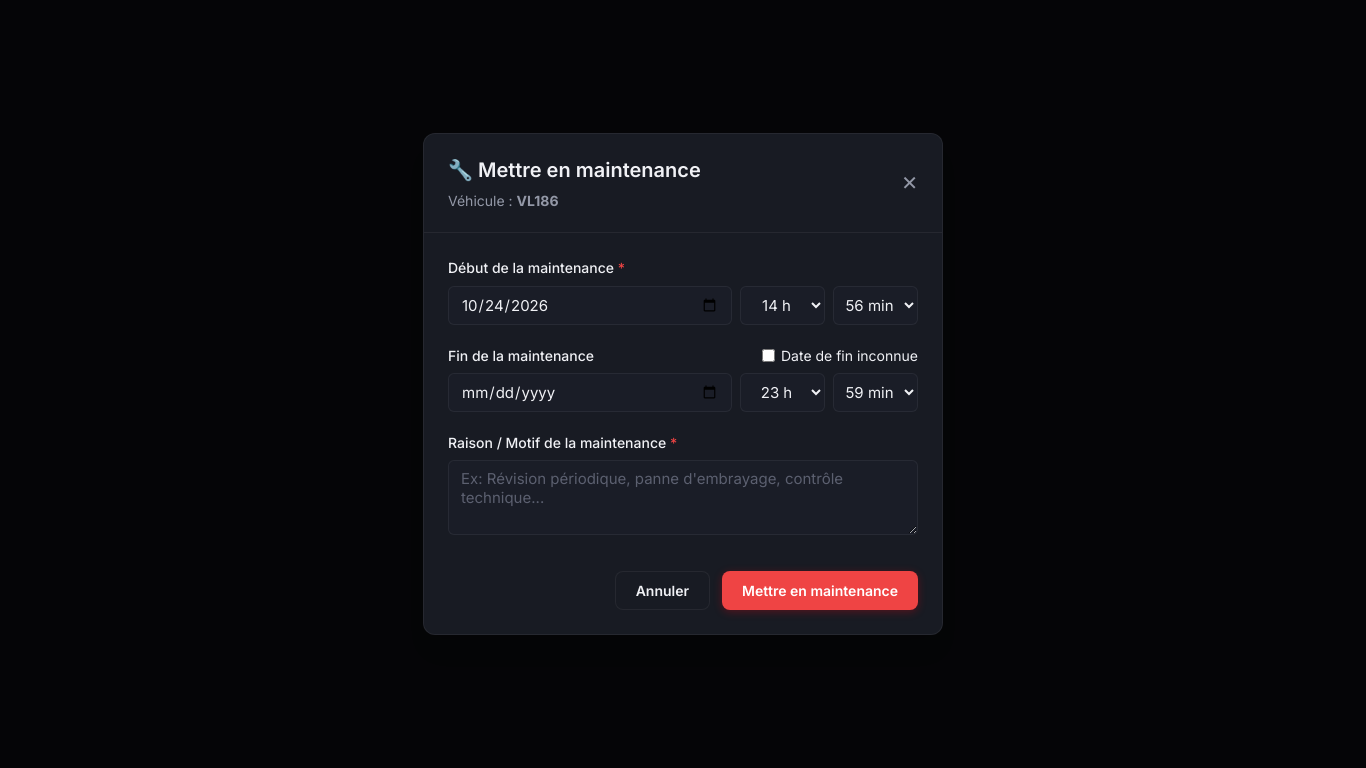
Scenario: PutInMaintenanceModal › désactive les champs de fin quand la date est inconnue
The image size is (1366, 768).
Click the checkbox labelled "Date de fin inconnue" at (768, 356), box [762,349,775,362]
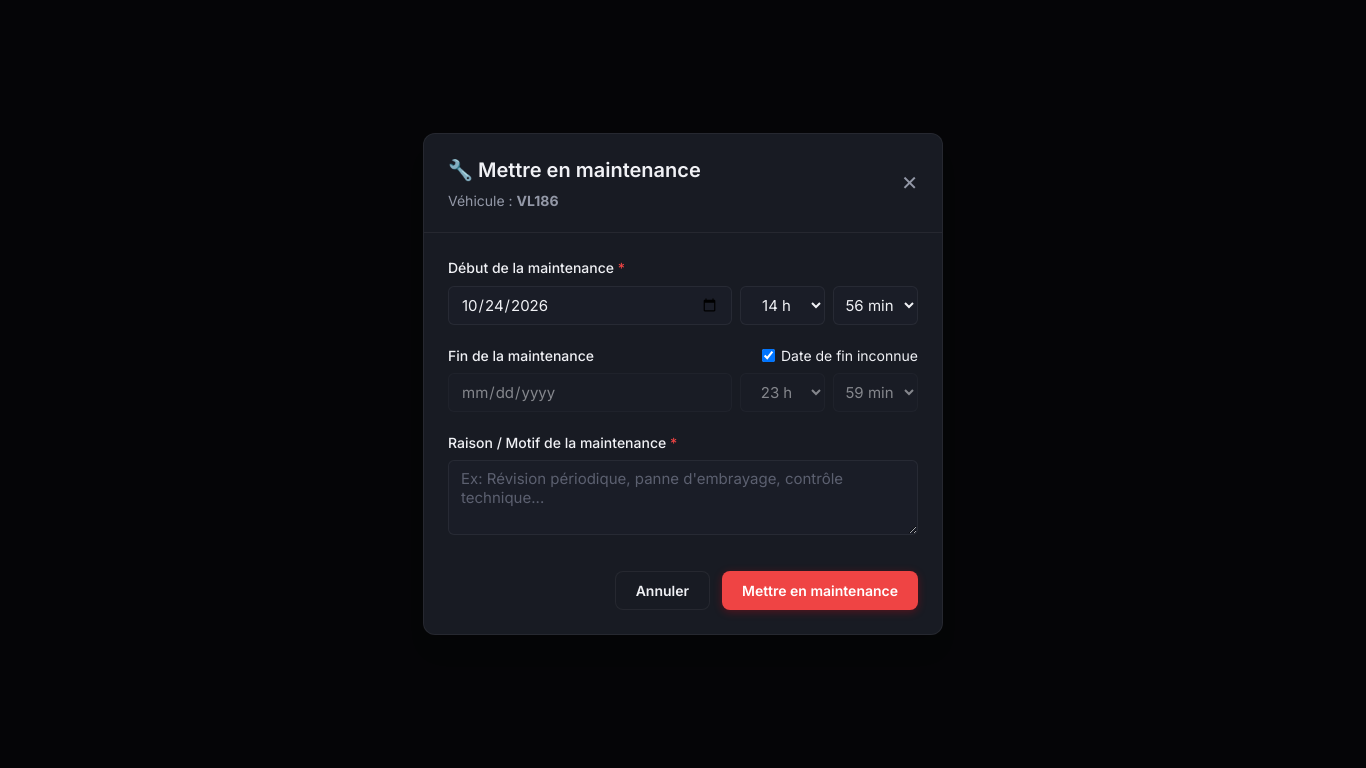
expect the date field below "Fin de la maintenance" is disabled: met, box [448,373,732,412]
